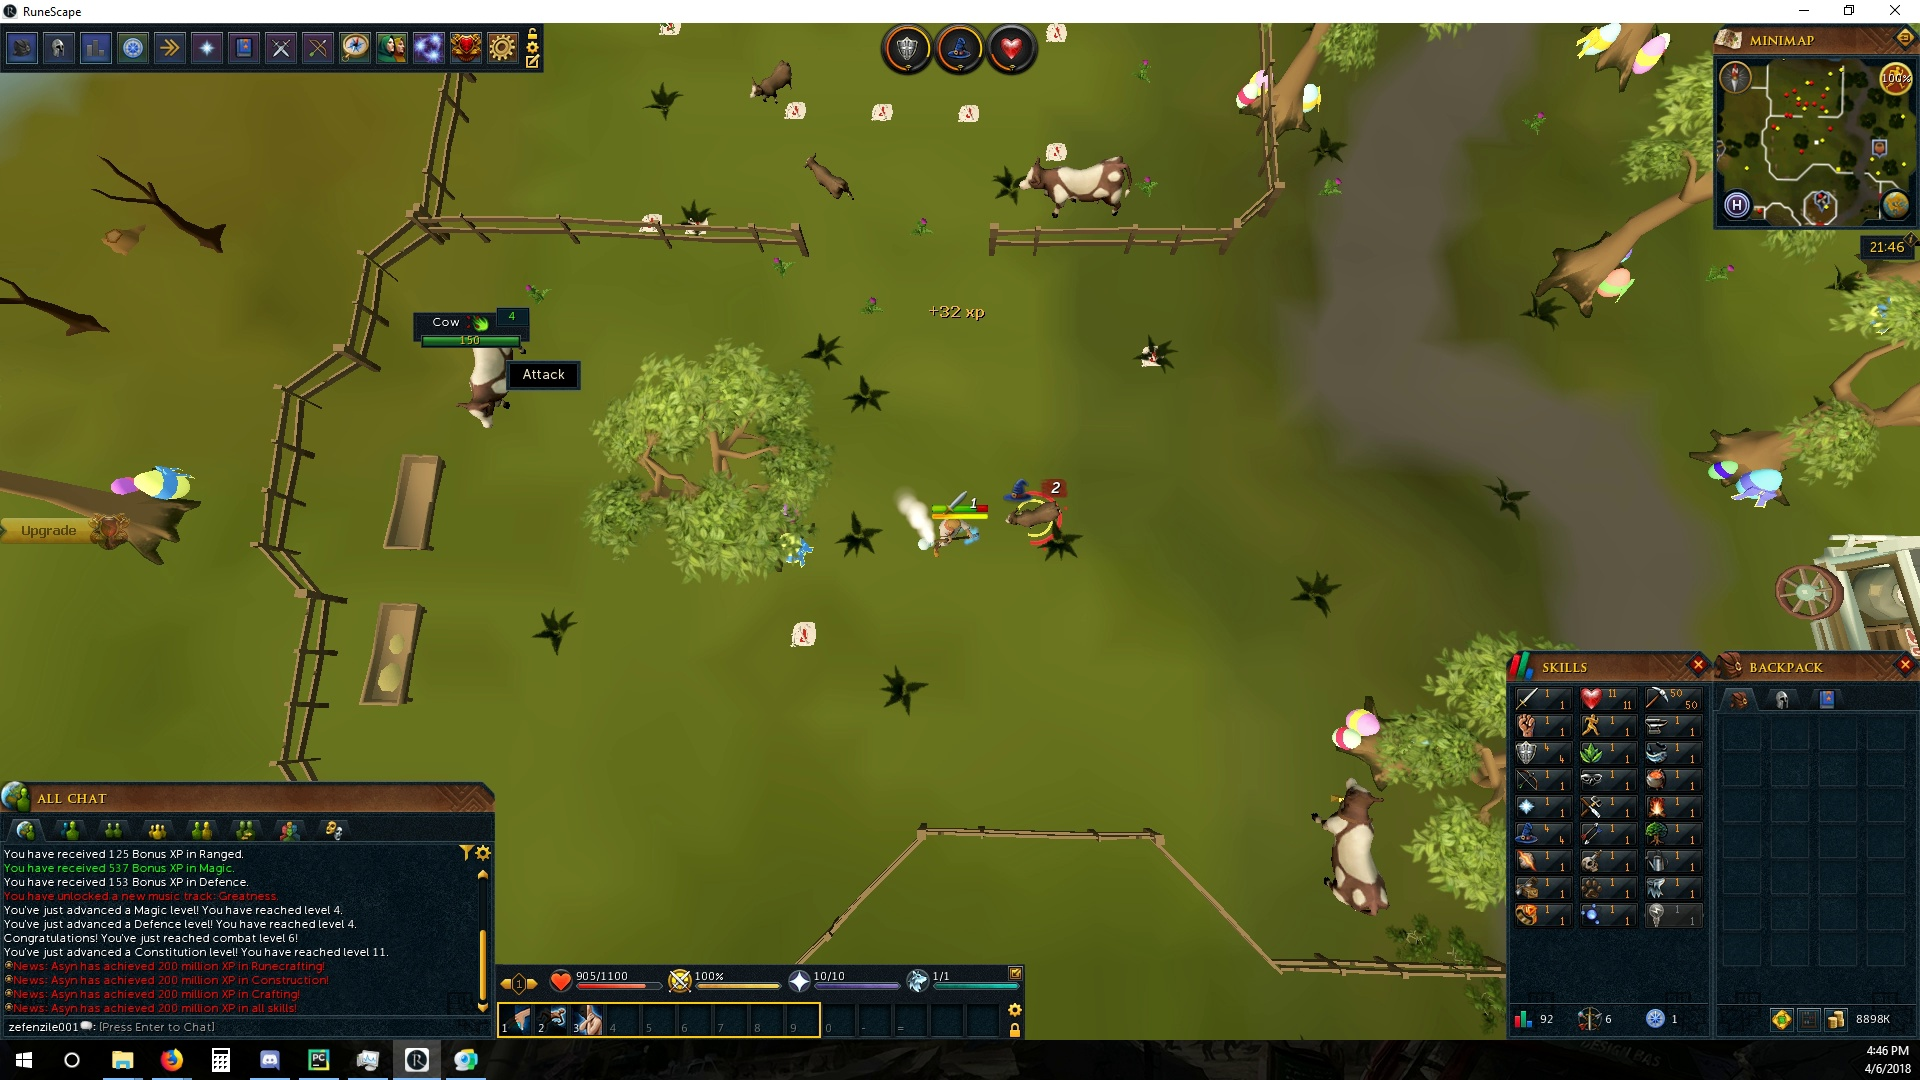calf: (803, 153, 856, 206), (744, 55, 796, 105), (1005, 496, 1062, 531)
cow: (1305, 779, 1394, 916), (1015, 156, 1137, 222), (450, 345, 535, 436)
cow_drop: (1129, 340, 1170, 375), (785, 618, 818, 649), (1043, 22, 1073, 53), (680, 211, 709, 243), (1043, 135, 1071, 164), (870, 102, 899, 127), (785, 98, 808, 127), (637, 208, 663, 233), (953, 102, 981, 124)
